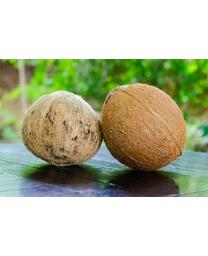coconut: (106, 84, 186, 174), (17, 89, 103, 166)
